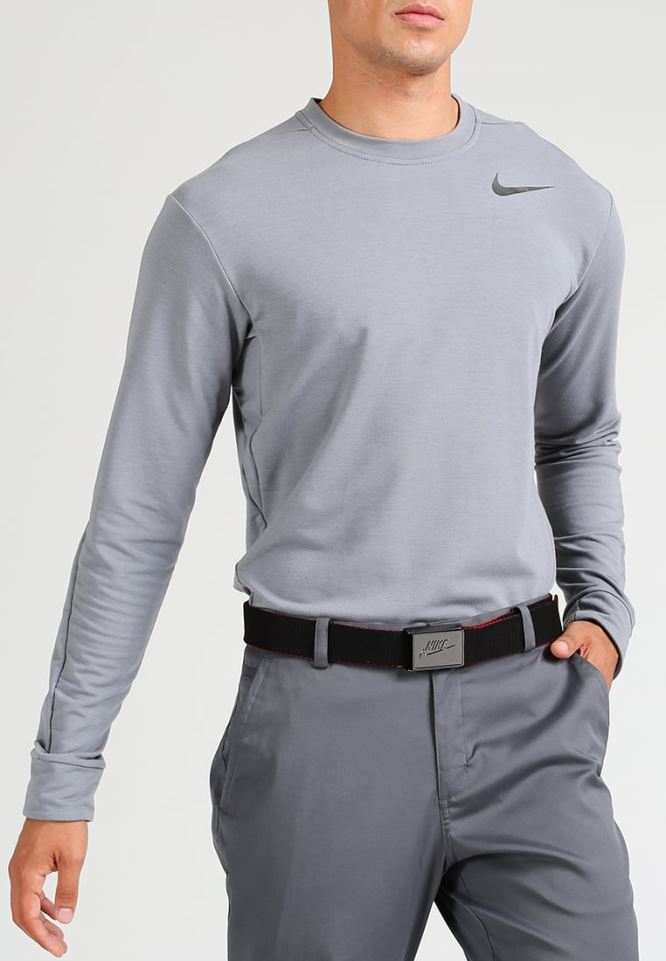C_long sleeve: (22, 75, 641, 828)
F_belt: (221, 598, 593, 691)
F_dress pants: (202, 588, 639, 961)
